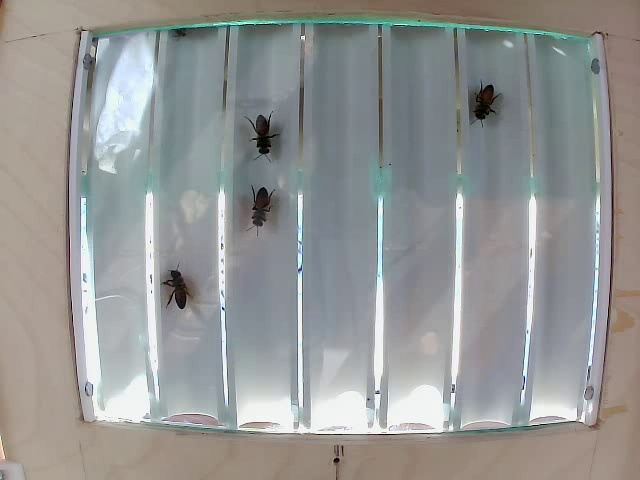bee: (241, 181, 276, 229), (254, 116, 289, 163), (165, 268, 202, 309), (474, 82, 499, 127)
